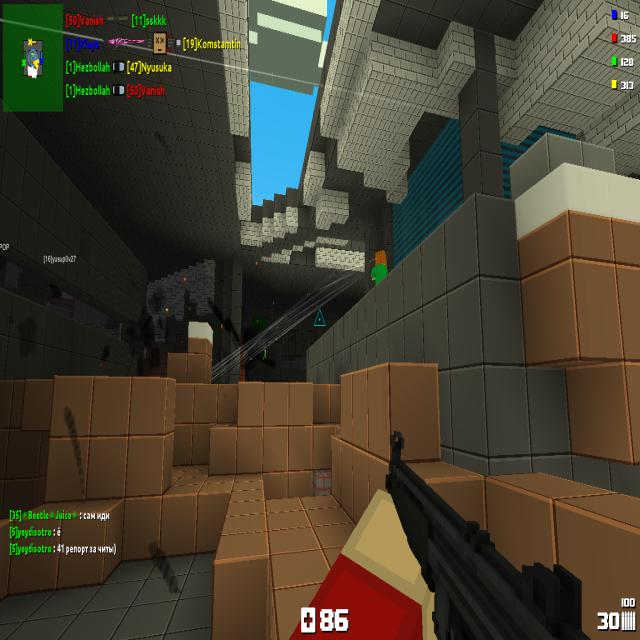enemy: (370, 250, 388, 286), (263, 347, 266, 360)
